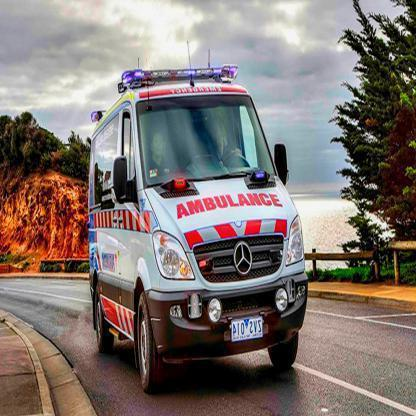Ambulance: (169, 191, 289, 223)
